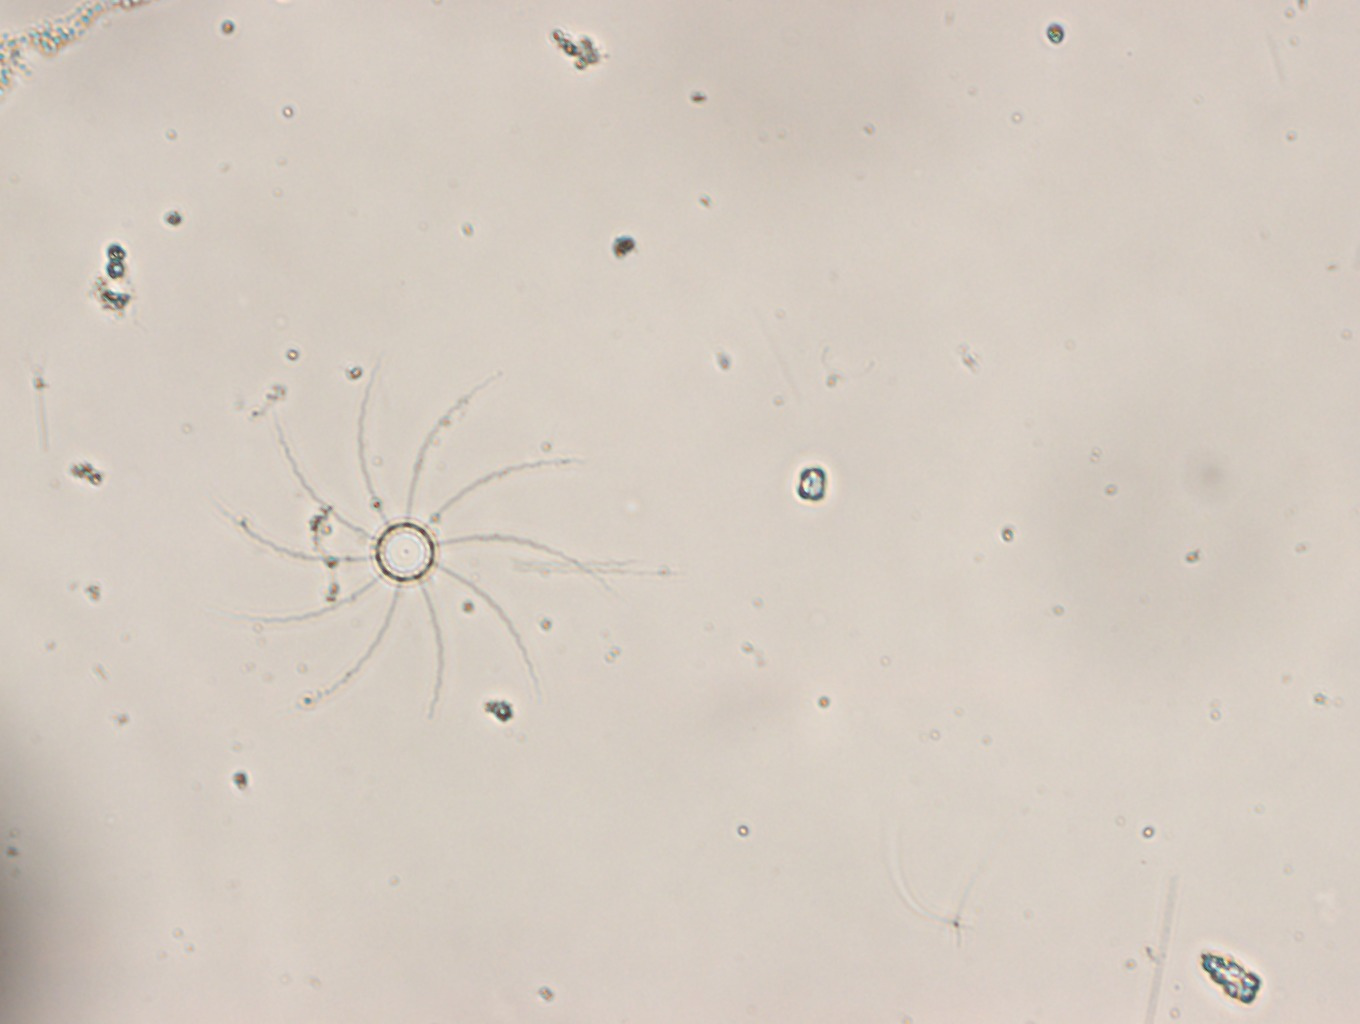bacteriastrum: (216, 359, 601, 719)
